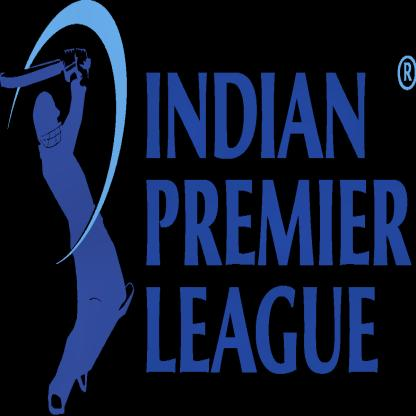IPL: (0, 0, 137, 416)
